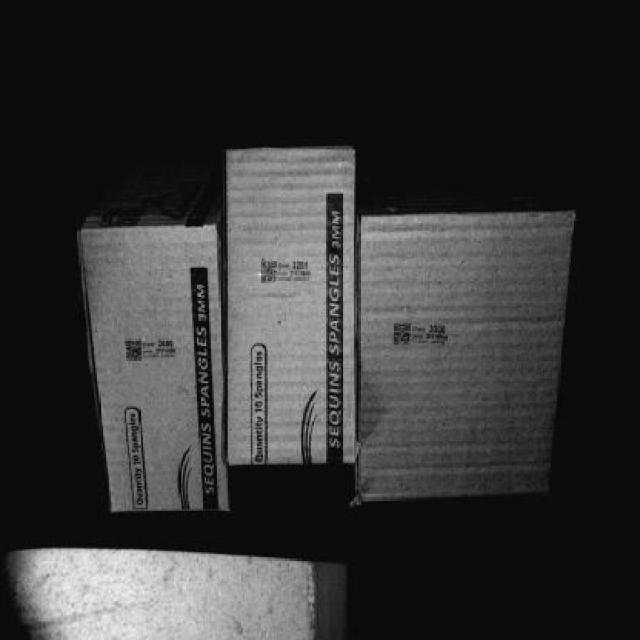box: (364, 215, 570, 488), (82, 226, 226, 512), (230, 146, 358, 465)
